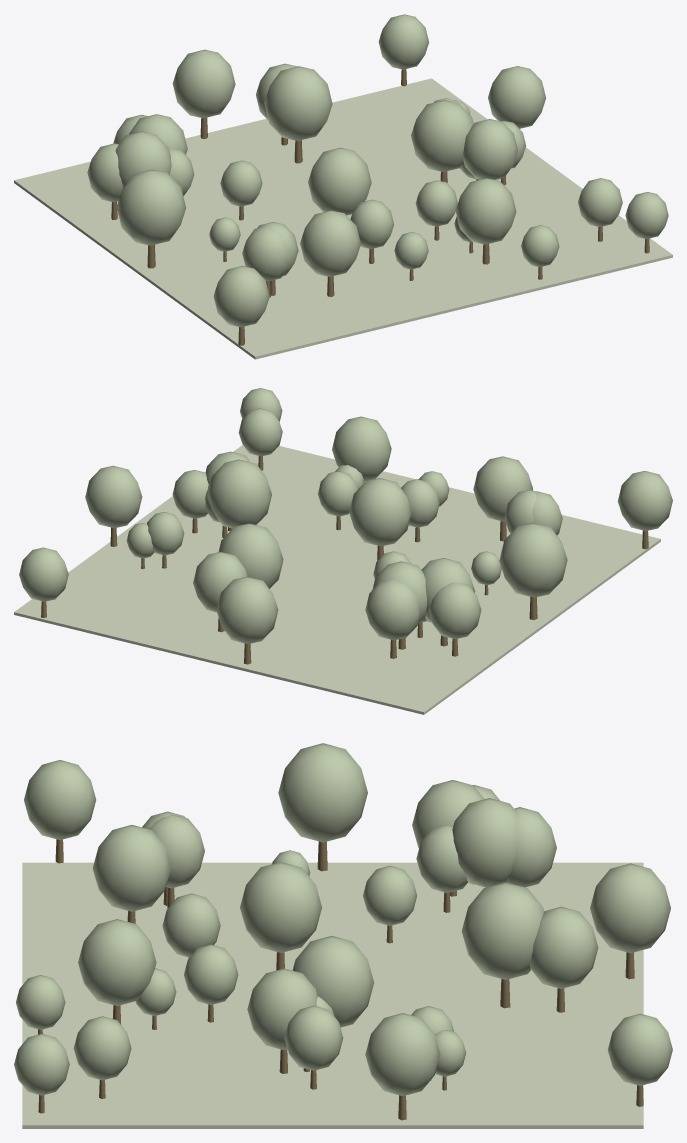
3 views of the same model, one above another, from view 1: azimuth 30°, elevation 25°; view 2: azimuth 150°, elevation 25°; view 3: azimuth 270°, elevation 25° (orthographic). The views are drawn at different scales.
Visible parts, largest first — view 1: terrain, lod-near-21, lod-near-19, lod-near-18, lod-near-10, lod-near-0, lod-near-15, lod-near-11, lod-near-7, lod-near-22, lod-near-24, lod-near-20 (+15 smaller); view 2: terrain, lod-near-21, lod-near-18, lod-near-0, lod-near-10, lod-near-11, lod-near-7, lod-near-13, lod-near-19, lod-near-24, lod-near-15, lod-near-12 (+16 smaller); view 3: terrain, lod-near-21, lod-near-19, lod-near-0, lod-near-10, lod-near-15, lod-near-11, lod-near-7, lod-near-29, lod-near-18, lod-near-24, lod-near-23 (+16 smaller).
Boxes of the visible parts, x1,y1,x2,y2 form: terrain: [14, 78, 672, 359]; lod-near-21: [116, 169, 185, 245]; lod-near-19: [264, 66, 332, 140]; lod-near-18: [411, 100, 473, 171]; lod-near-10: [172, 49, 235, 118]; lod-near-0: [308, 147, 371, 215]; lod-near-15: [300, 210, 360, 276]; lod-near-11: [455, 178, 516, 244]; lod-near-7: [488, 66, 545, 128]; lod-near-22: [463, 119, 517, 179]; lod-near-24: [213, 266, 269, 327]; lod-near-20: [378, 14, 429, 69]; terrain: [14, 445, 660, 714]; lod-near-21: [499, 523, 567, 597]; lod-near-18: [207, 459, 271, 528]; lod-near-0: [349, 478, 411, 546]; lod-near-10: [216, 576, 278, 643]; lod-near-11: [332, 416, 391, 481]; lod-near-7: [85, 465, 142, 528]; lod-near-13: [365, 580, 421, 640]; lod-near-19: [218, 523, 283, 588]; lod-near-24: [617, 471, 672, 530]; lod-near-15: [473, 456, 532, 521]; lod-near-12: [428, 582, 481, 638]; terrain: [22, 862, 643, 1128]; lod-near-21: [278, 743, 367, 842]; lod-near-19: [461, 882, 544, 979]; lod-near-0: [240, 862, 321, 952]; lod-near-10: [590, 863, 670, 953]; lod-near-15: [92, 825, 171, 911]; lod-near-11: [78, 919, 156, 1005]; lod-near-7: [365, 1013, 440, 1096]; lod-near-29: [452, 798, 517, 887]; lod-near-18: [292, 935, 373, 1027]; lod-near-24: [24, 760, 96, 839]; lod-near-23: [530, 906, 598, 988].
Size of the model in its own units: 35.09 by 7.29 by 33.93.
